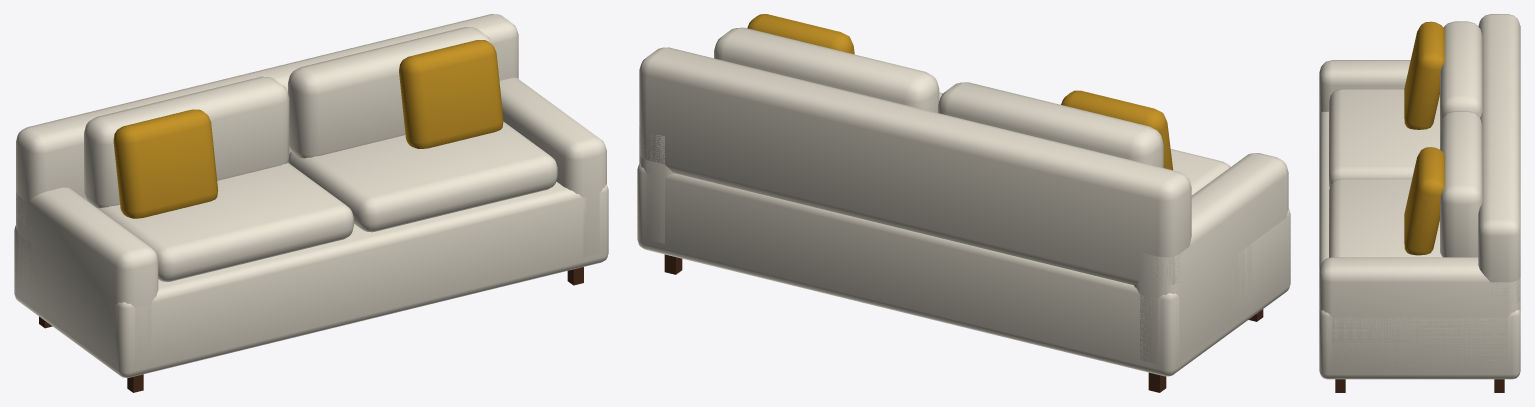
Rendered from fur_sofa_cream.glb.
3 views of the same model, side by side, from view 1: azimuth 30°, elevation 25°; view 2: azimuth 150°, elevation 25°; view 3: azimuth 270°, elevation 25° (orthographic). The views are drawn at different scales.
Parts seen in each view (by area): view 1: FUR_sofa_cream; view 2: FUR_sofa_cream; view 3: FUR_sofa_cream.
Part boxes in pixels (x1,y1,x2,y2): FUR_sofa_cream: (14, 14, 608, 392); FUR_sofa_cream: (637, 14, 1290, 392); FUR_sofa_cream: (1319, 14, 1520, 392).
Size of the model in its own units: 2.4 by 1.01 by 0.95.
1 material, 1 textured.
